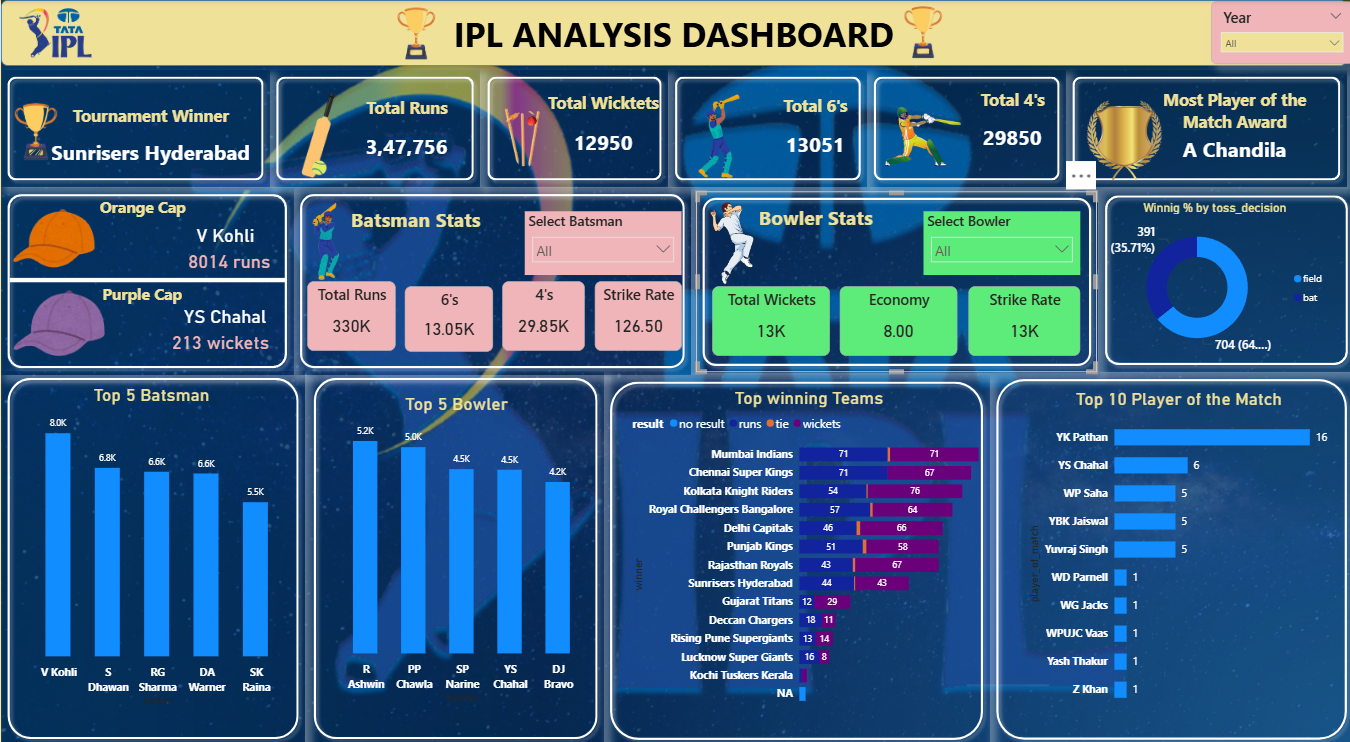

This screenshot's page, from the dashboard's own definition file:
{"tool":"powerbi","page":{"name":"Page 1","canvas":[1850,1020],"ordinal":0},"visuals":[{"type":"shape","box":[0,0,1840,90],"z":0},{"type":"shape","box":[0,96,368,160],"z":1000},{"type":"shape","box":[0,508,416,512],"z":2000},{"type":"shape","box":[656,96,256,160],"z":3000},{"type":"shape","box":[912,96,272,160],"z":4000},{"type":"shape","box":[1184,96,272,160],"z":5000},{"type":"shape","box":[1456,96,384,160],"z":6000},{"type":"slicer","fields":{"Values":["Date Table.Year"]},"box":[1654.4,1.7,194.8,85.5],"z":7000},{"type":"card","title":"Tournament Winner","fields":{"Values":["Matches.Tournamentwinner"]},"box":[60,142,290,104],"z":8000},{"type":"card","title":"Total Runs","fields":{"Values":["Sum(Deliveries.total_runs)"]},"box":[478,130.9,152.7,109.1],"z":9000},{"type":"card","title":"Total Wicktets","fields":{"Values":["Sum(Deliveries.is_wicket)"]},"box":[736,124,174,110],"z":10000},{"type":"card","title":"Most Player of the Match Award","fields":{"Values":["Min(Matches.player_of_match)"]},"box":[1552,120,270,110],"z":11000},{"type":"card","title":"Total 6''s","fields":{"Values":["CountNonNull(Deliveries.batsman_runs)"]},"box":[1054,128,118,110],"z":12000},{"type":"card","title":"Total 4''s","fields":{"Values":["CountNonNull(Deliveries.batsman_runs)"]},"box":[1322,120,124,108],"z":13000},{"type":"shape","box":[0,256,400,256],"z":14000},{"type":"shape","box":[11.9,376.8,376.8,13.9],"z":15000},{"type":"textbox","box":[112,264,162,52],"z":16000},{"type":"textbox","box":[132.9,382.8,142.8,55.5],"z":17000},{"type":"card","fields":{"Values":["Deliveries.Orange cap holder"]},"box":[245.9,321.3,132.9,69.4],"z":18000},{"type":"card","fields":{"Values":["Min(Deliveries.batter)"]},"box":[218.2,295.5,176.5,51.6],"z":19000},{"type":"card","fields":{"Values":["Min(Deliveries.bowler)"]},"box":[216.2,408.6,182.5,47.6],"z":20000},{"type":"card","fields":{"Values":["Deliveries.Purple cap holder"]},"box":[222.1,438.3,156.7,59.5],"z":21000},{"type":"shape","box":[400,256,544,256],"z":22000},{"type":"shape","title":"Total Wicket ","box":[950,261.8,549.4,247.9],"z":23000},{"type":"slicer","title":"Select Batsman","fields":{"Values":["Deliveries.batter"]},"box":[716,289.6,214.2,87.3],"z":24000},{"type":"card","title":"Total Runs","fields":{"Values":["Sum(Deliveries.batsman_runs)"]},"box":[418.5,384.8,121,95.2],"z":25000},{"type":"card","title":"Strike Rate","fields":{"Values":["Deliveries.Strike Rate"]},"box":[811.2,384.8,119,95.2],"z":26000},{"type":"card","title":"6''s","fields":{"Values":["CountNonNull(Deliveries.batsman_runs)"]},"box":[552,390.7,121,89.2],"z":27000},{"type":"card","title":"4''s","fields":{"Values":["CountNonNull(Deliveries.batsman_runs)"]},"box":[685.6,384.8,113,95.2],"z":28000},{"type":"slicer","title":"Select Bowler","fields":{"Values":["Deliveries.bowler"]},"box":[1261.4,289.6,214.2,87.3],"z":29000},{"type":"card","title":"Total Wickets","fields":{"Values":["Sum(Deliveries.is_wicket)"]},"box":[971.8,390.7,160.6,95.2],"z":30000},{"type":"card","title":"Economy","fields":{"Values":["Deliveries.Economy"]},"box":[1147.3,390.7,160.6,95.2],"z":31000},{"type":"card","title":"Strike Rate","fields":{"Values":["Sum(Deliveries.is_wicket)"]},"box":[1322.8,390.7,152.7,95.2],"z":32000},{"type":"textbox","box":[458.1,277.7,218.2,47.6],"z":33000},{"type":"textbox","box":[1005.5,273.7,218.2,47.6],"z":34000},{"type":"donutChart","title":"Winnig % by toss_decision","fields":{"Y":["CountNonNull(Matches.winner)"],"Category":["Matches.toss_decision"]},"box":[1499.4,273.7,321.3,220.1],"z":35000},{"type":"shape","box":[1500,258,350,250],"z":36000},{"type":"columnChart","title":"Top 5 Batsman","fields":{"Category":["Deliveries.batter"],"Y":["Sum(Deliveries.batsman_runs)"]},"box":[12,526,388,444],"z":37000},{"type":"columnChart","title":"Top 5 Bowler","fields":{"Category":["Deliveries.bowler"],"Y":["Sum(Deliveries.batsman_runs)"]},"box":[434,538,378,428],"z":38000},{"type":"shape","box":[368,96,288,160],"z":39000},{"type":"shape","box":[418,508,406,512],"z":40000},{"type":"barChart","title":"Top winning Teams","fields":{"Category":["Matches.winner"],"Y":["CountNonNull(Matches.winner)"],"Series":["Matches.result"]},"box":[858,530,494,444],"z":41000},{"type":"shape","box":[824,512,528,508],"z":42000},{"type":"barChart","title":"Top 10 Player of the Match","fields":{"Category":["Matches.player_of_match"],"Y":["CountNonNull(Matches.player_of_match)"]},"box":[1400,532,422,444],"z":43000},{"type":"shape","box":[1351.9,509.3,497.4,511],"z":44000},{"type":"image","box":[12,260,124,134],"z":45000},{"type":"image","box":[10,382,142,120],"z":46000},{"type":"image","box":[0,130,96,100],"z":47000},{"type":"image","box":[358,106,154,158],"z":48000},{"type":"image","box":[658,138,110,104],"z":49000},{"type":"image","box":[918,118,132,136],"z":50000},{"type":"image","box":[1200,124,122,130],"z":51000},{"type":"image","box":[932,272,136,122],"z":52000},{"type":"image","box":[378,246,124,168],"z":53000},{"type":"image","box":[1466,118,146,154],"z":54000},{"type":"image","box":[20,0,108,90],"z":55000},{"type":"image","box":[494,2,148,88],"z":56000},{"type":"image","box":[1200,0,122,88],"z":57000}]}

Visuals, with their boxes in screenshot pixels (x1, y1, x2, y2), scaled from the page's 1850x1020 canvas onto the 1350x742 screenshot:
shape: 0, 0, 1343, 65
shape: 0, 70, 269, 186
shape: 0, 370, 304, 741
shape: 479, 70, 666, 186
shape: 666, 70, 864, 186
shape: 864, 70, 1062, 186
shape: 1062, 70, 1343, 186
slicer - Date Table.Year: 1207, 1, 1349, 63
"Tournament Winner" card: 44, 103, 255, 179
"Total Runs" card: 349, 95, 460, 175
"Total Wicktets" card: 537, 90, 664, 170
"Most Player of the Match Award" card: 1133, 87, 1330, 167
"Total 6''s" card: 769, 93, 855, 173
"Total 4''s" card: 965, 87, 1055, 166
shape: 0, 186, 292, 372
shape: 9, 274, 284, 284
textbox: 82, 192, 200, 230
textbox: 97, 278, 201, 319
card - Deliveries.Orange cap holder: 179, 234, 276, 284
card - Min(Deliveries.batter): 159, 215, 288, 252
card - Min(Deliveries.bowler): 158, 297, 291, 332
card - Deliveries.Purple cap holder: 162, 319, 276, 362
shape: 292, 186, 689, 372
"Total Wicket " shape: 693, 190, 1094, 371
"Select Batsman" slicer: 522, 211, 679, 274
"Total Runs" card: 305, 280, 394, 349
"Strike Rate" card: 592, 280, 679, 349
"6''s" card: 403, 284, 491, 349
"4''s" card: 500, 280, 583, 349
"Select Bowler" slicer: 920, 211, 1077, 274
"Total Wickets" card: 709, 284, 826, 353
"Economy" card: 837, 284, 954, 353
"Strike Rate" card: 965, 284, 1077, 353
textbox: 334, 202, 494, 237
textbox: 734, 199, 893, 234
"Winnig % by toss_decision" donutChart: 1094, 199, 1329, 359
shape: 1095, 188, 1349, 370
"Top 5 Batsman" columnChart: 9, 383, 292, 706
"Top 5 Bowler" columnChart: 317, 391, 593, 703
shape: 269, 70, 479, 186
shape: 305, 370, 601, 741
"Top winning Teams" barChart: 626, 386, 987, 709
shape: 601, 372, 987, 741
"Top 10 Player of the Match" barChart: 1022, 387, 1330, 710
shape: 987, 370, 1349, 741
image: 9, 189, 99, 287
image: 7, 278, 111, 365
image: 0, 95, 70, 167
image: 261, 77, 374, 192
image: 480, 100, 560, 176
image: 670, 86, 766, 185
image: 876, 90, 965, 185
image: 680, 198, 779, 287
image: 276, 179, 366, 301
image: 1070, 86, 1176, 198
image: 15, 0, 93, 65
image: 360, 1, 468, 65
image: 876, 0, 965, 64
